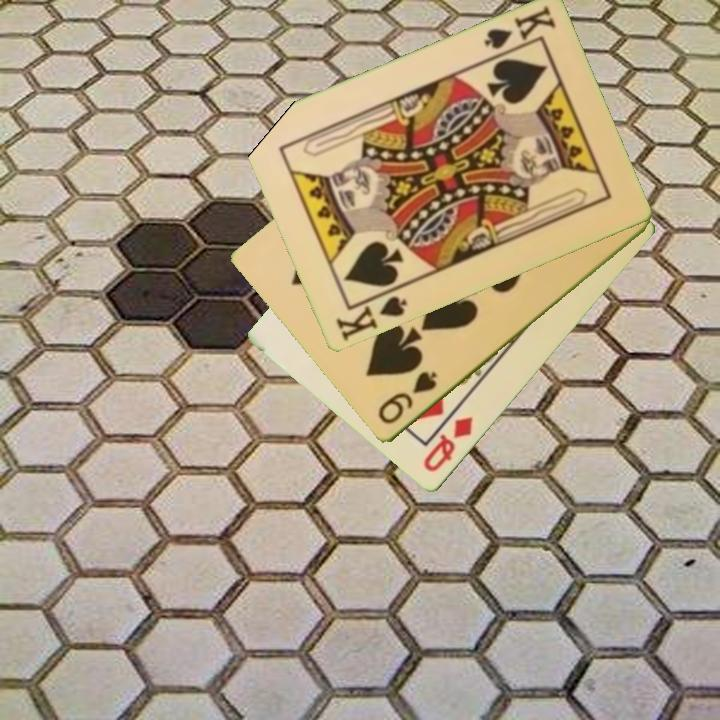9s: (374, 368, 440, 428)
Ks: (332, 293, 410, 345), (480, 2, 559, 53)
Qd: (419, 413, 476, 476)
